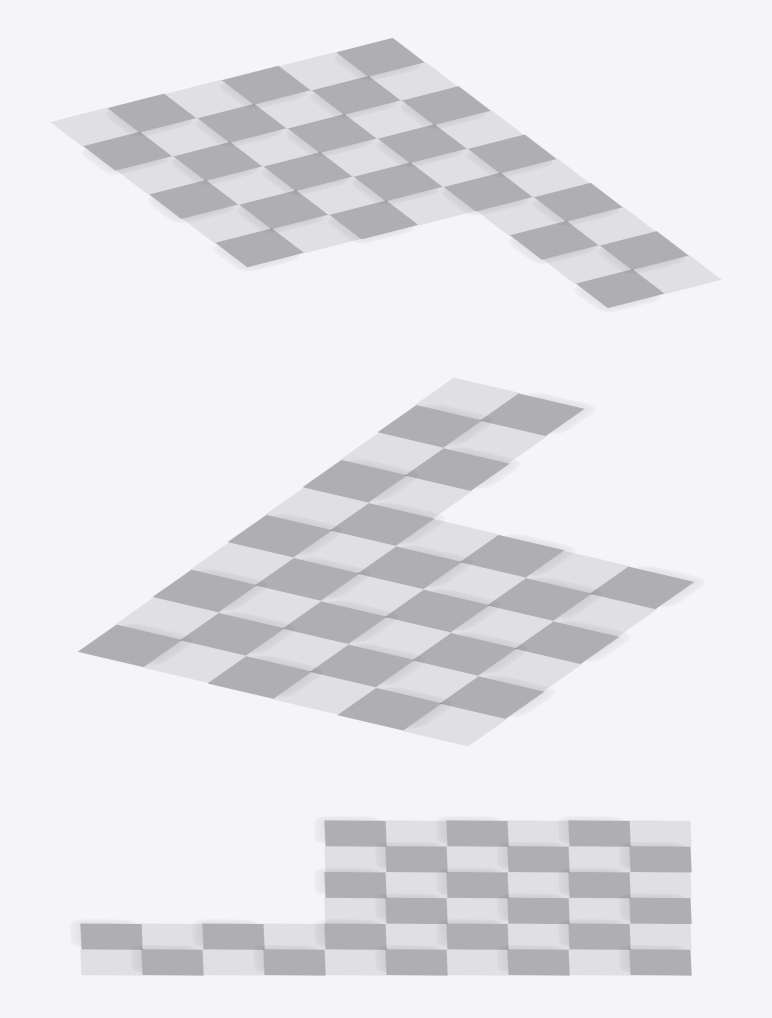
3 views of the same model, one above another, from view 1: azimuth 30°, elevation 25°; view 2: azimuth 150°, elevation 25°; view 3: azimuth 270°, elevation 25° (orthographic). The views are drawn at different scales.
Parts seen in each view (by area): view 1: Group.008, Group, Group.010, Group.001, Group.009, Group.003, Group.002, Group.005, Group.006, Group.004, Group.007; view 2: Group.001, Group.005, Group.010, Group, Group.003, Group.007, Group.004, Group.008, Group.009, Group.006, Group.002; view 3: Group.002, Group.001, Group.010, Group, Group.009, Group.006, Group.007, Group.008, Group.005, Group.003, Group.004.
Part boxes in pixels (bbox=[...]): Group.008: bbox=[312, 38, 423, 114]; Group: bbox=[216, 191, 327, 266]; Group.010: bbox=[576, 231, 687, 307]; Group.001: bbox=[150, 142, 261, 218]; Group.009: bbox=[510, 183, 621, 259]; Group.003: bbox=[198, 66, 309, 142]; Group.002: bbox=[84, 94, 194, 170]; Group.005: bbox=[330, 163, 441, 238]; Group.006: bbox=[445, 135, 555, 211]; Group.004: bbox=[264, 114, 375, 190]; Group.007: bbox=[378, 86, 489, 162]; Group.001: bbox=[413, 621, 618, 675]; Group.005: bbox=[358, 535, 563, 588]; Group.010: bbox=[379, 393, 583, 447]; Group: bbox=[488, 567, 693, 620]; Group.003: bbox=[208, 645, 413, 698]; Group.007: bbox=[153, 558, 358, 611]; Group.004: bbox=[283, 590, 488, 643]; Group.008: bbox=[78, 613, 283, 666]; Group.009: bbox=[303, 448, 508, 501]; Group.006: bbox=[228, 503, 433, 556]; Group.002: bbox=[338, 676, 543, 729]; Group.002: bbox=[568, 820, 691, 871]; Group.001: bbox=[446, 820, 569, 871]; Group.010: bbox=[80, 923, 203, 975]; Group: bbox=[324, 820, 447, 871]; Group.009: bbox=[202, 923, 325, 975]; Group.006: bbox=[324, 923, 447, 975]; Group.007: bbox=[446, 923, 569, 975]; Group.008: bbox=[568, 923, 691, 975]; Group.005: bbox=[324, 872, 447, 923]; Group.003: bbox=[568, 872, 691, 923]; Group.004: bbox=[446, 872, 569, 923].
Size of the model in its own units: 8.2 by 0 by 12.2.
Materials: 44 (44 with a texture image).
